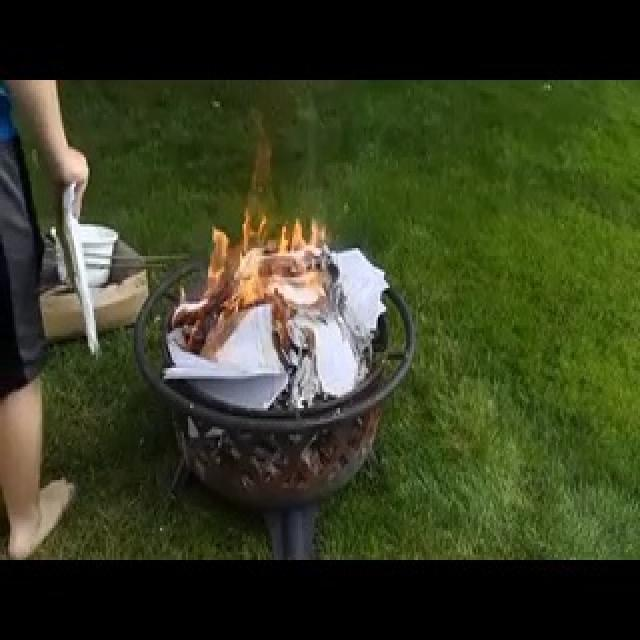fire: (161, 154, 331, 350)
